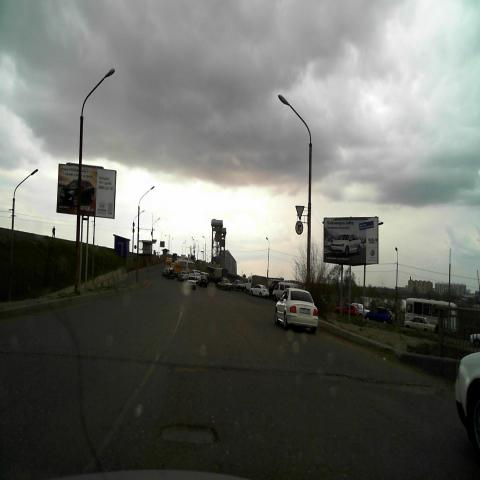3_18: (294, 220, 304, 236)
